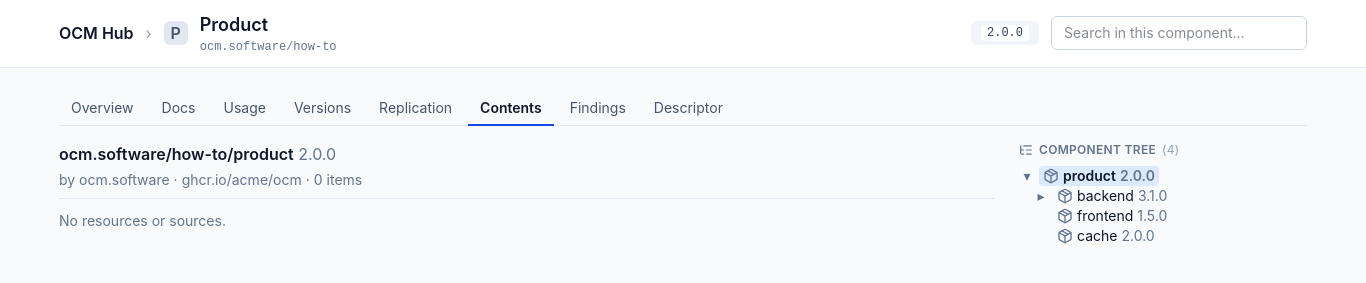
Test: sub-trees expand without further requests; shared children appear under each parent
This screenshot has width=1366, height=283.
What coordinates should you click on to do the following:
click the button named "Expand ocm.software/how-to/backend"
I would click on:
 (1041, 196)
Its box is [1033,186,1049,206].
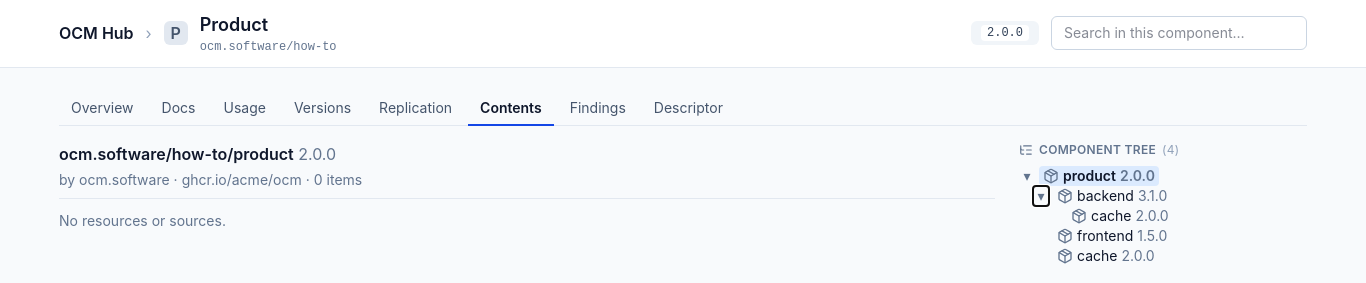
Now the number of list items named "ocm.software/how-to/cache 2.0.0" is 2, box [1067,206,1173,226]; [1053,246,1159,266]
